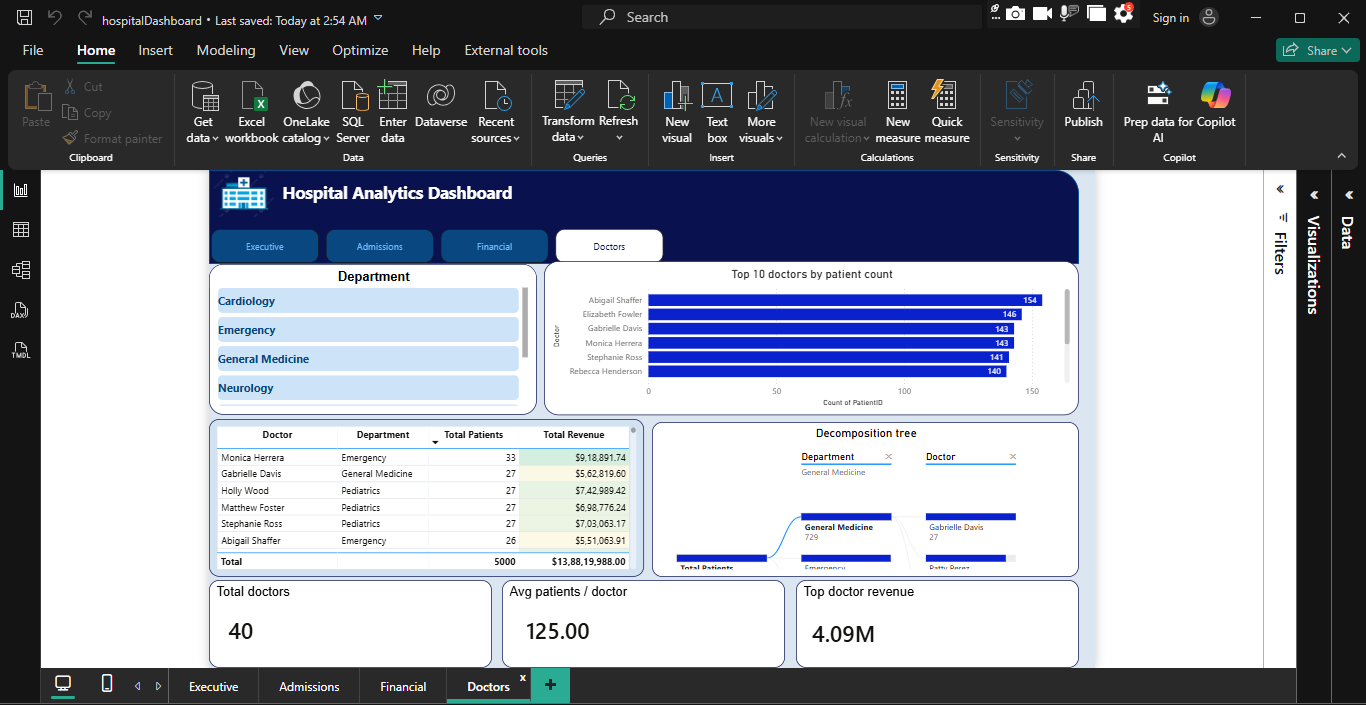

The dashboard page shown, as its layout file describes it:
{"tool":"powerbi","page":{"name":"Doctors","canvas":[1280,720],"ordinal":3},"visuals":[{"type":"shape","box":[0,0,1257.8,135.9],"z":0},{"type":"image","box":[0,0,101.4,67.6],"z":1000},{"type":"pageNavigator","box":[2.9,85.2,656.8,50],"z":2000},{"type":"textbox","box":[101.2,11.6,373,56.4],"z":3000},{"type":"barChart","title":"Top 10 doctors by patient count","fields":{"Category":["hospital_cleaned.Doctor"],"Y":["CountNonNull(hospital_cleaned.PatientID)"]},"box":[484.3,131.6,773.5,222.7],"z":4000},{"type":"tableEx","fields":{"Values":["hospital_cleaned.Doctor","hospital_cleaned.Department","hospital_cleaned.Total Patients","hospital_cleaned.Total Revenue"]},"box":[0,360,628.9,228.4],"z":5000},{"type":"decompositionTreeVisual","title":"Decomposition tree","fields":{"ExplainBy":["hospital_cleaned.Department","hospital_cleaned.Doctor"],"Analyze":["hospital_cleaned.Total Patients"]},"box":[640.5,364.3,617.3,224.1],"z":6000},{"type":"cardVisual","title":"Total doctors","fields":{"Data":["Count(hospital_cleaned.Doctor)"]},"box":[0,592.8,409.2,127.2],"z":7000},{"type":"cardVisual","title":"Avg patients / doctor","fields":{"Data":["hospital_cleaned.Avg Pateint per Doctor"]},"box":[424.3,592.8,409.2,127.2],"z":8000},{"type":"cardVisual","title":"Top doctor revenue","fields":{"Data":["hospital_cleaned.Top Doctor Revenve"]},"box":[848.7,592.8,409.2,127.2],"z":9000},{"type":"listSlicer","title":"Department","fields":{"Values":["hospital_cleaned.Department"]},"box":[0,135.9,474.2,218.3],"z":10000}]}

Visuals, with their boxes on the page's 1280x720 design canvas (x1, y1, x2, y2). These are canvas units, not pixel positions in the 1366x705 screenshot, which may show the page scaled, cropped or inside an application window:
shape: crop(0, 0, 1258, 136)
image: crop(0, 0, 101, 68)
pageNavigator: crop(3, 85, 660, 135)
textbox: crop(101, 12, 474, 68)
"Top 10 doctors by patient count" barChart: crop(484, 132, 1258, 354)
tableEx - hospital_cleaned.Doctor x hospital_cleaned.Department: crop(0, 360, 629, 588)
"Decomposition tree" decompositionTreeVisual: crop(640, 364, 1258, 588)
"Total doctors" cardVisual: crop(0, 593, 409, 720)
"Avg patients / doctor" cardVisual: crop(424, 593, 834, 720)
"Top doctor revenue" cardVisual: crop(849, 593, 1258, 720)
"Department" listSlicer: crop(0, 136, 474, 354)
